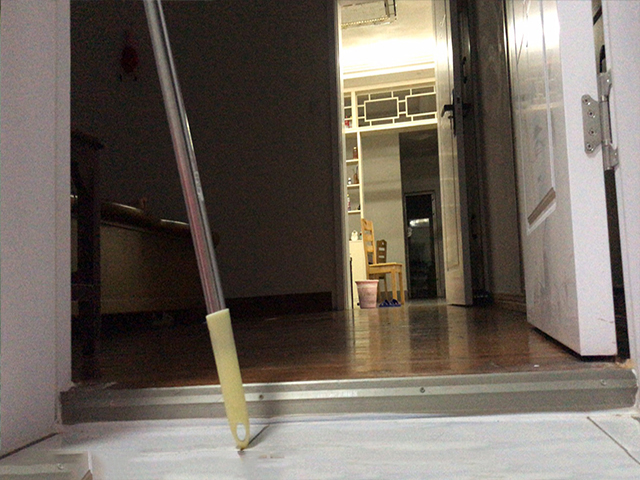stool: (358, 216, 406, 305)
trashcan: (355, 277, 383, 310)
